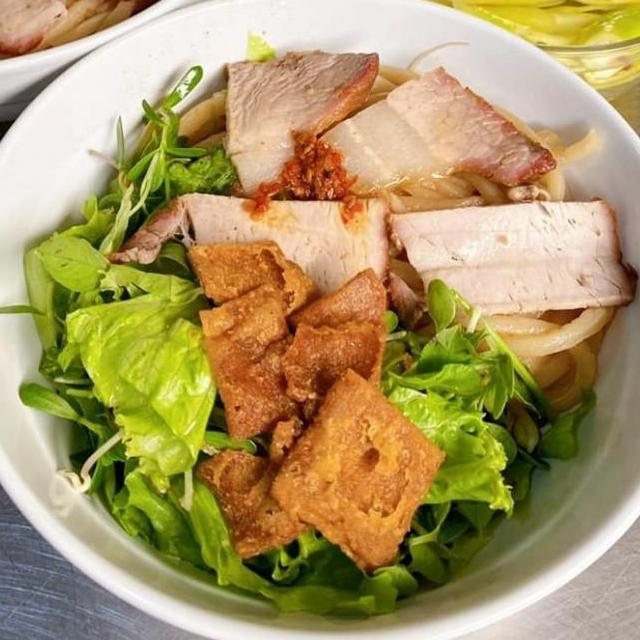banh da: (263, 363, 449, 579), (190, 412, 331, 564), (191, 276, 310, 446), (279, 264, 394, 431), (179, 234, 327, 325)
mi: (433, 299, 619, 423), (369, 124, 602, 218), (131, 86, 241, 182)
mi quang: (0, 43, 640, 640)
thit heo: (297, 62, 560, 212), (379, 192, 640, 341), (97, 189, 395, 309), (217, 48, 381, 209), (0, 0, 72, 60)
